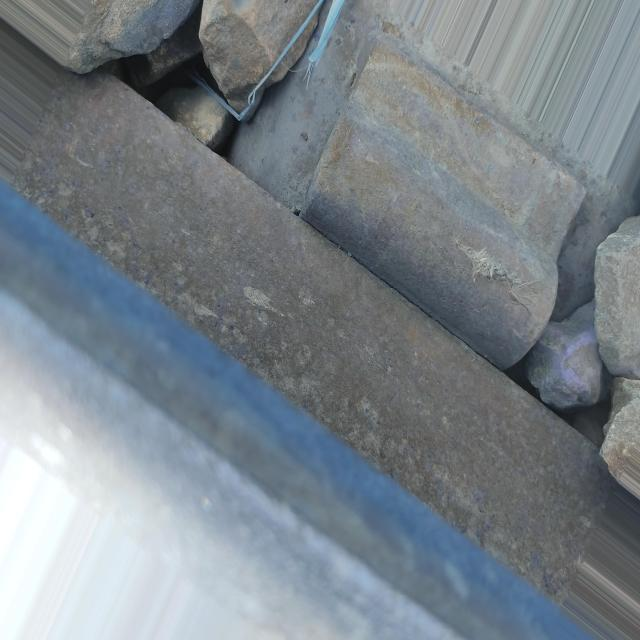Missing Fastener: (243, 16, 608, 384)
